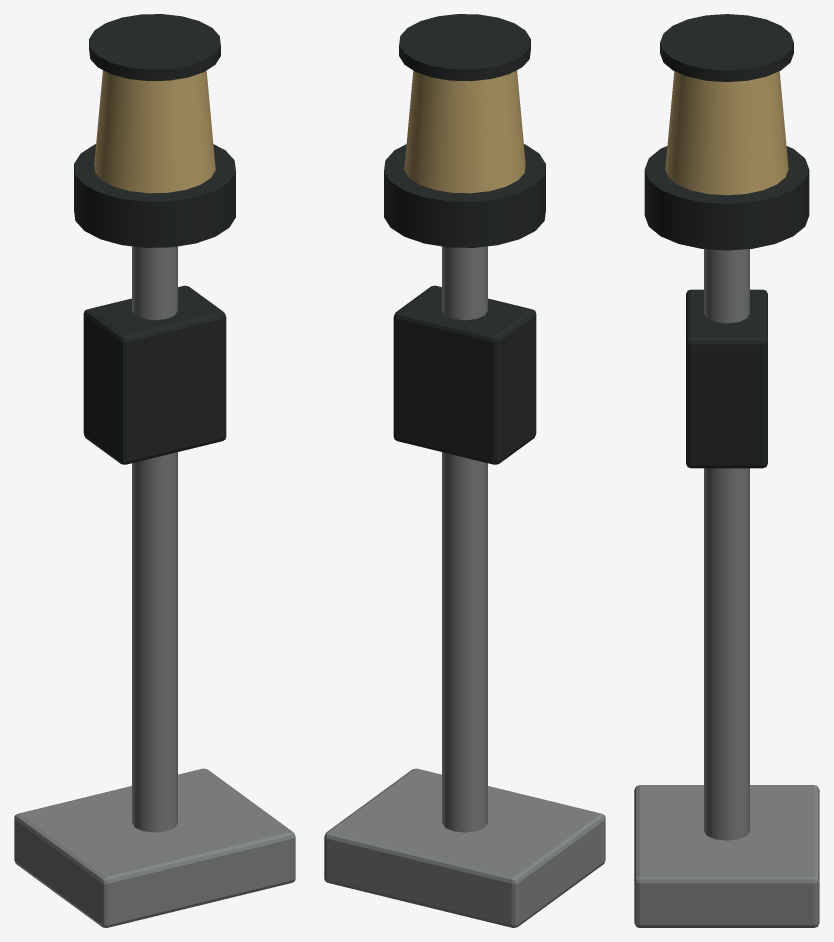
File: noir-warning-light.glb
3 views of the same model, side by side, from view 1: azimuth 30°, elevation 25°; view 2: azimuth 150°, elevation 25°; view 3: azimuth 270°, elevation 25° (orthographic).
Parts seen in each view (by area): view 1: fence-galvanized-steel.006, lamp-enamel.007, hazard-ivory.002; view 2: fence-galvanized-steel.006, lamp-enamel.007, hazard-ivory.002; view 3: fence-galvanized-steel.006, lamp-enamel.007, hazard-ivory.002.
Boxes of the visible parts, bbox=[...] form: fence-galvanized-steel.006: bbox=[14, 246, 295, 927]; lamp-enamel.007: bbox=[74, 14, 235, 464]; hazard-ivory.002: bbox=[94, 70, 215, 193]; fence-galvanized-steel.006: bbox=[324, 246, 605, 927]; lamp-enamel.007: bbox=[384, 14, 545, 464]; hazard-ivory.002: bbox=[404, 70, 525, 193]; fence-galvanized-steel.006: bbox=[634, 249, 819, 927]; lamp-enamel.007: bbox=[644, 14, 809, 468]; hazard-ivory.002: bbox=[665, 71, 788, 195].
Bounding box in the file's own units: 0.44 × 1.8 × 0.36.
